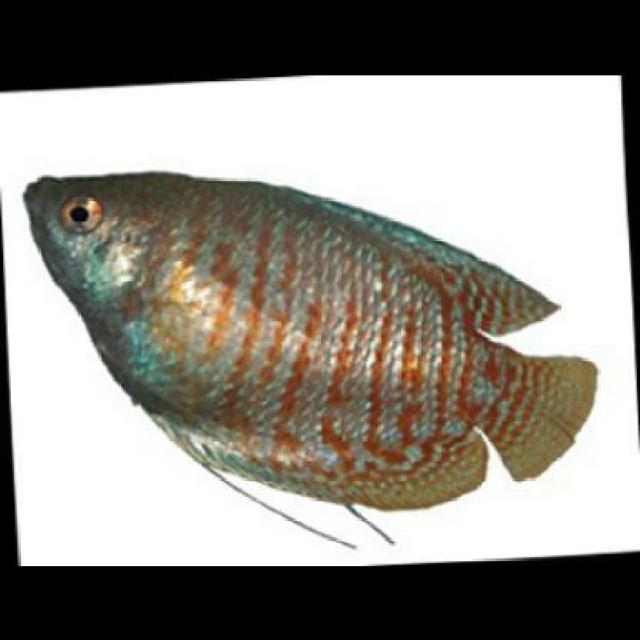Gourami: (15, 157, 603, 517)
